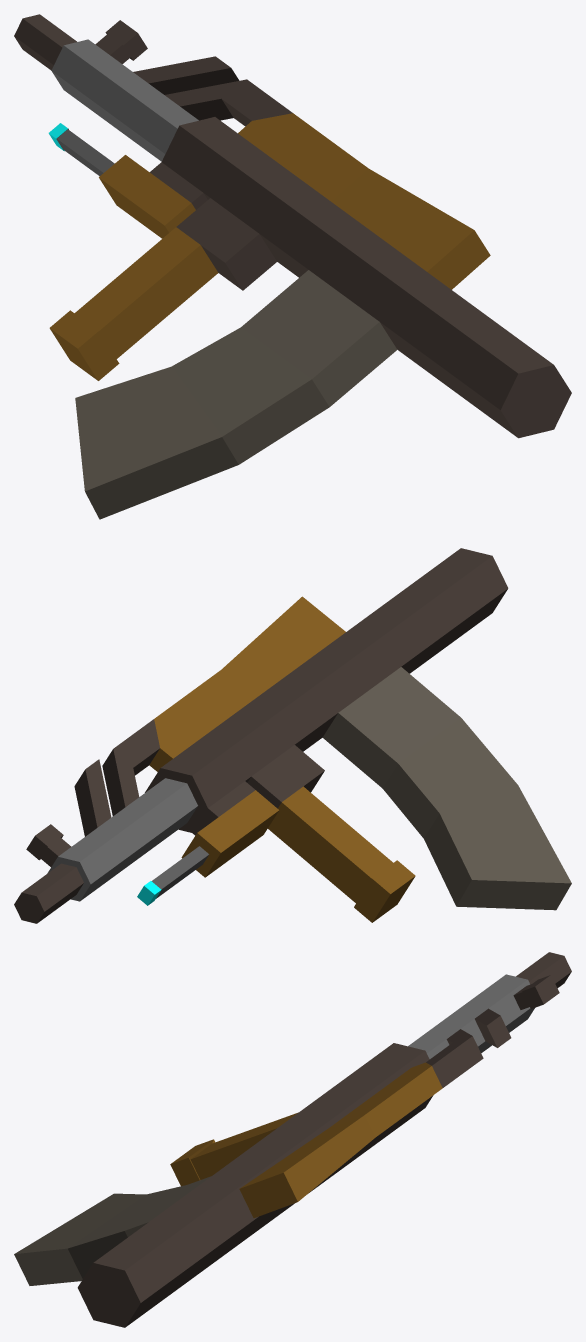
The model's file is Weapon.fbx.
3 views of the same model, one above another, from view 1: azimuth 30°, elevation 25°; view 2: azimuth 150°, elevation 25°; view 3: azimuth 330°, elevation 25° (orthographic). The views are drawn at different scales.
Parts seen in each view (by area): view 1: Cylinder.003, магазин, Cylinder.004, держалка, Cylinder.005, Cylinder.006, Cylinder.007; view 2: Cylinder.003, магазин, Cylinder.004, держалка, Cylinder.005, Cylinder.006, Cylinder.007; view 3: Cylinder.003, Cylinder.004, магазин, Cylinder.005, держалка.
Part boxes in pixels (x1,y1,x2,y2): Cylinder.003: (14, 14, 571, 438); магазин: (75, 270, 397, 519); Cylinder.004: (238, 113, 490, 289); держалка: (49, 227, 218, 380); Cylinder.005: (51, 39, 198, 161); Cylinder.006: (99, 155, 195, 238); Cylinder.007: (57, 129, 114, 176); Cylinder.003: (14, 548, 508, 923); магазин: (322, 667, 571, 910); Cylinder.004: (149, 596, 345, 771); держалка: (268, 786, 415, 922); Cylinder.005: (47, 778, 197, 901); Cylinder.006: (181, 790, 279, 877); Cylinder.007: (151, 846, 208, 898); Cylinder.003: (77, 952, 571, 1327); Cylinder.004: (239, 1062, 442, 1217); магазин: (14, 1176, 210, 1285); Cylinder.005: (408, 974, 534, 1058); держалка: (170, 1112, 298, 1186).
Bounding box in the file's own units: 103 × 65.12 × 247.
